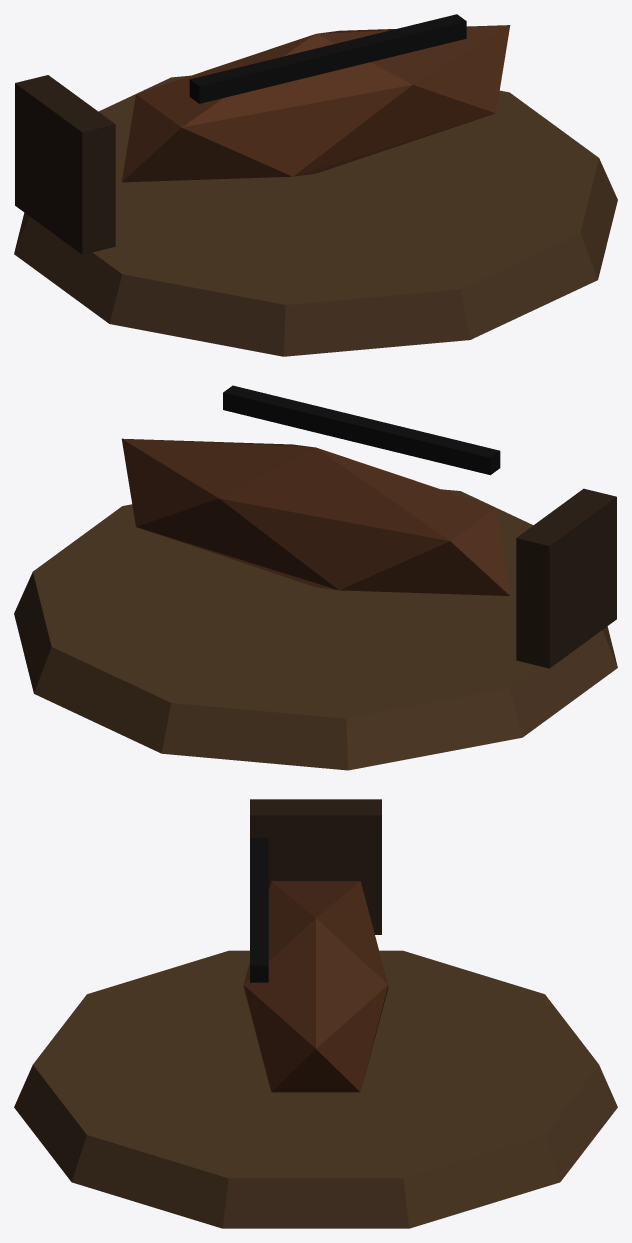
Rendered from cooked_fish.glb.
3 views of the same model, one above another, from view 1: azimuth 30°, elevation 25°; view 2: azimuth 150°, elevation 25°; view 3: azimuth 270°, elevation 25° (orthographic). The views are drawn at different scales.
Parts seen in each view (by area): view 1: CookedFish; view 2: CookedFish; view 3: CookedFish.
Part boxes in pixels (x1,y1,x2,y2): CookedFish: (14,14,617,356); CookedFish: (14,385,617,770); CookedFish: (14,799,617,1228).
Bounding box in the file's own units: 0.3122 × 0.1155 × 0.32.
